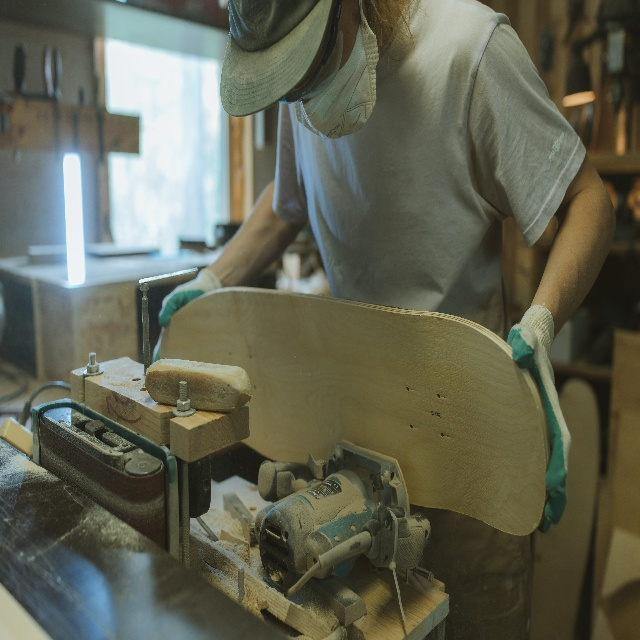Guantes: (505, 301, 572, 534), (151, 264, 225, 367)
Mascara: (295, 0, 379, 138)
